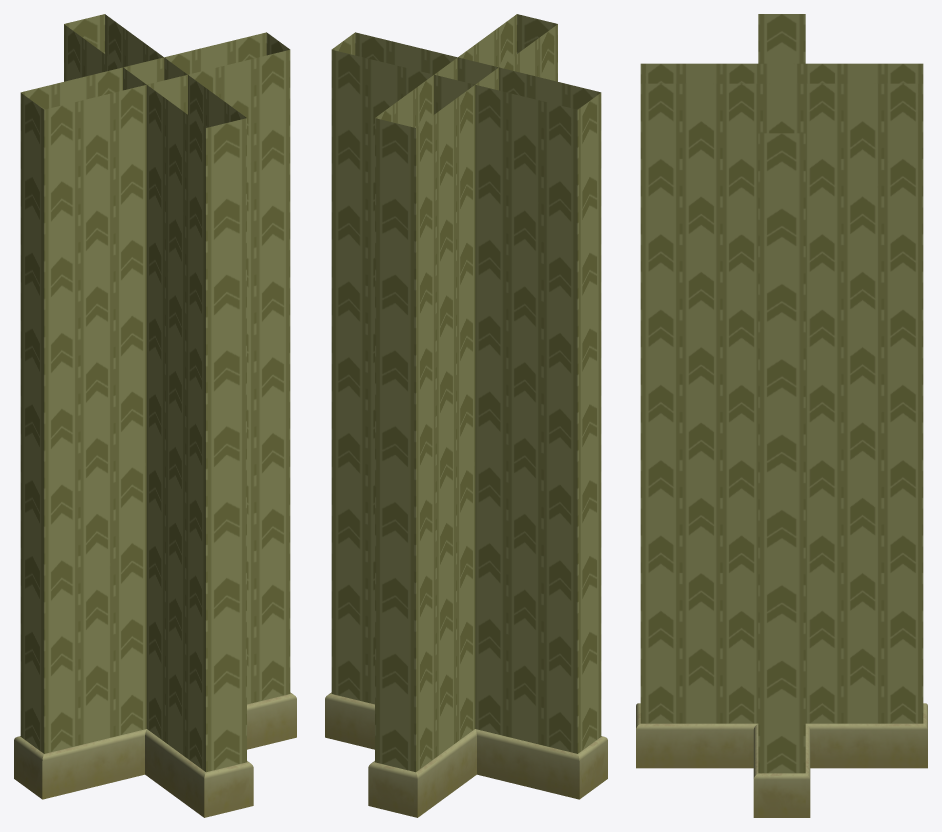
File: WallSmall.fbx
The picture shows the model from 3 angles, left to right: view 1: azimuth 30°, elevation 25°; view 2: azimuth 150°, elevation 25°; view 3: azimuth 270°, elevation 25°; orthographic projection.
Parts seen in each view (by area): view 1: WallSmall; view 2: WallSmall; view 3: WallSmall.
Boxes of the visible parts, x1,y1,x2,y2 form: WallSmall: (14, 14, 296, 817); WallSmall: (325, 14, 607, 817); WallSmall: (636, 14, 927, 817).
Bounding box in the file's own units: 155 × 400 × 155.
